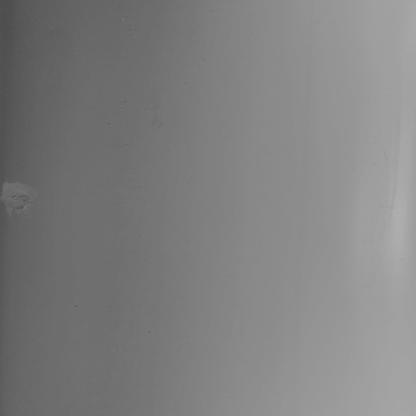sunshang: (1, 180, 43, 223)
